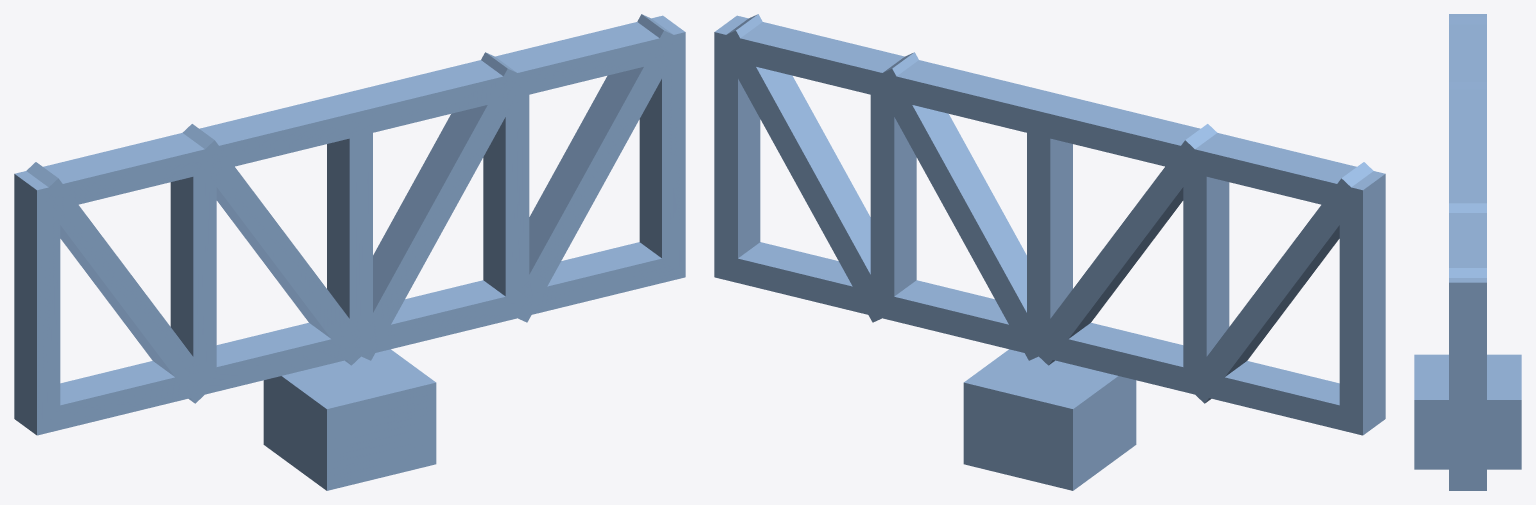
The model's file is truss.glb.
The picture shows the model from 3 angles, left to right: view 1: azimuth 30°, elevation 25°; view 2: azimuth 150°, elevation 25°; view 3: azimuth 270°, elevation 25°; orthographic projection. The views are drawn at different scales.
Visible parts, largest first — view 1: truss; view 2: truss; view 3: truss.
Boxes of the visible parts, box(x1,y1,x2,y2) form: truss: box(14, 14, 685, 490); truss: box(714, 14, 1385, 490); truss: box(1414, 14, 1521, 490).
Size of the model in its own units: 83 by 43.83 by 14.
